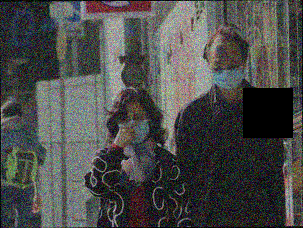with_mask: (116, 111, 151, 148), (208, 57, 245, 90)
